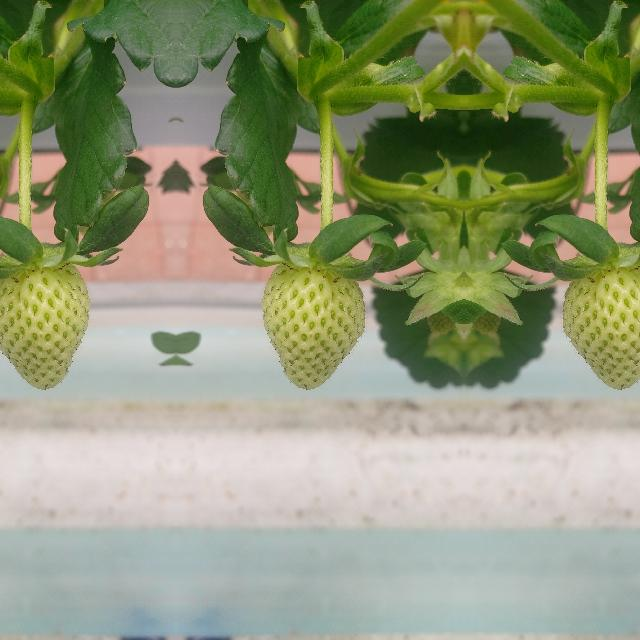Health_25: (260, 261, 364, 389), (0, 261, 89, 389), (562, 261, 640, 389)
